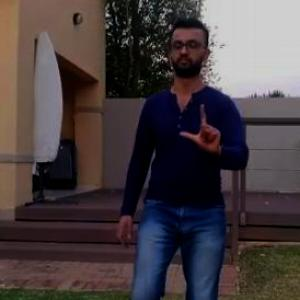land_hand: (175, 97, 227, 161)
